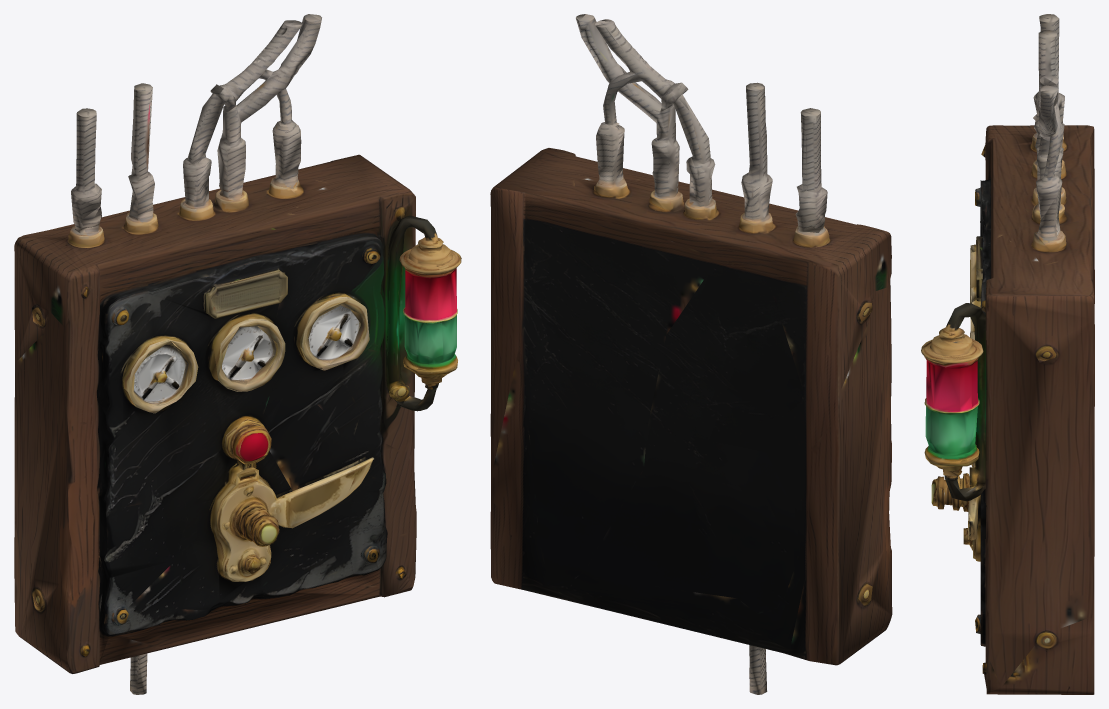
File: lhi_switchboard.glb
The picture shows the model from 3 angles, left to right: view 1: azimuth 30°, elevation 25°; view 2: azimuth 150°, elevation 25°; view 3: azimuth 270°, elevation 25°; orthographic projection.
Parts seen in each view (by area): view 1: material; view 2: material; view 3: material.
Boxes of the visible parts, x1,y1,x2,y2 form: material: (14,14,461,694); material: (490,14,892,694); material: (921,14,1094,694).
Size of the model in its own units: 0.7064 by 1.13 by 0.2804.
1 material, 1 textured.
